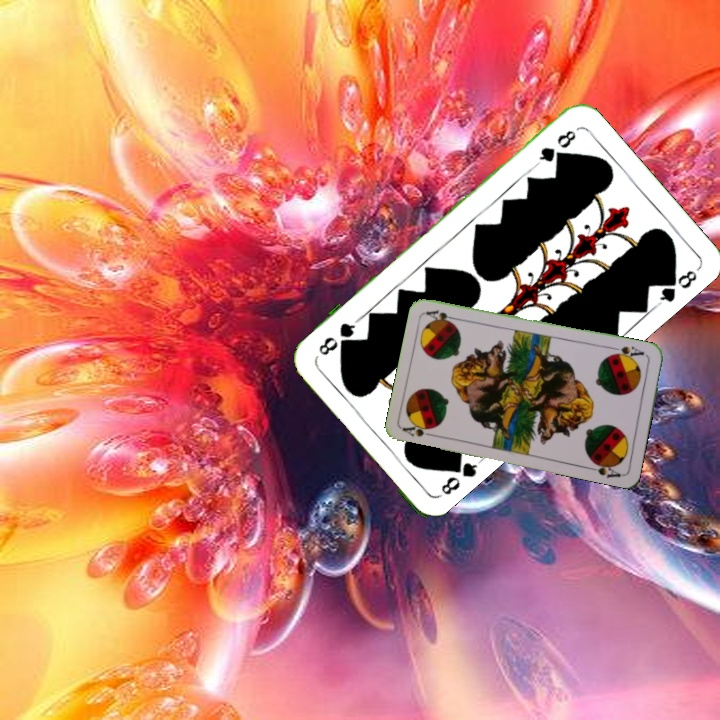G8: (436, 453, 484, 498), (531, 126, 579, 168)
SA: (607, 342, 649, 362), (399, 419, 439, 440)
